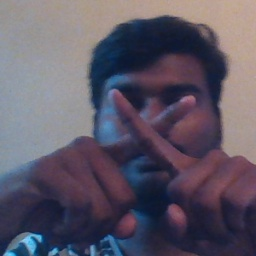X: (78, 80, 219, 215)
